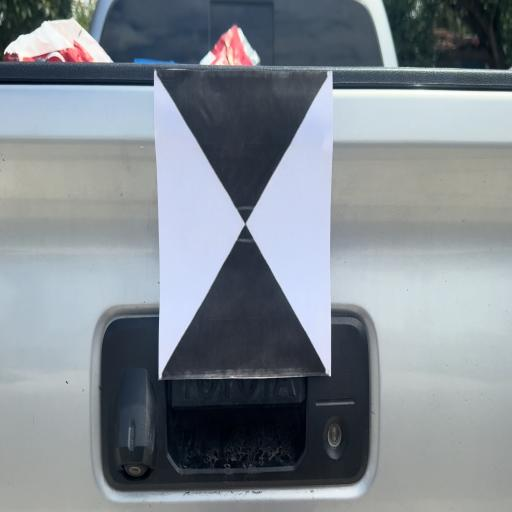target: (154, 70, 330, 376)
